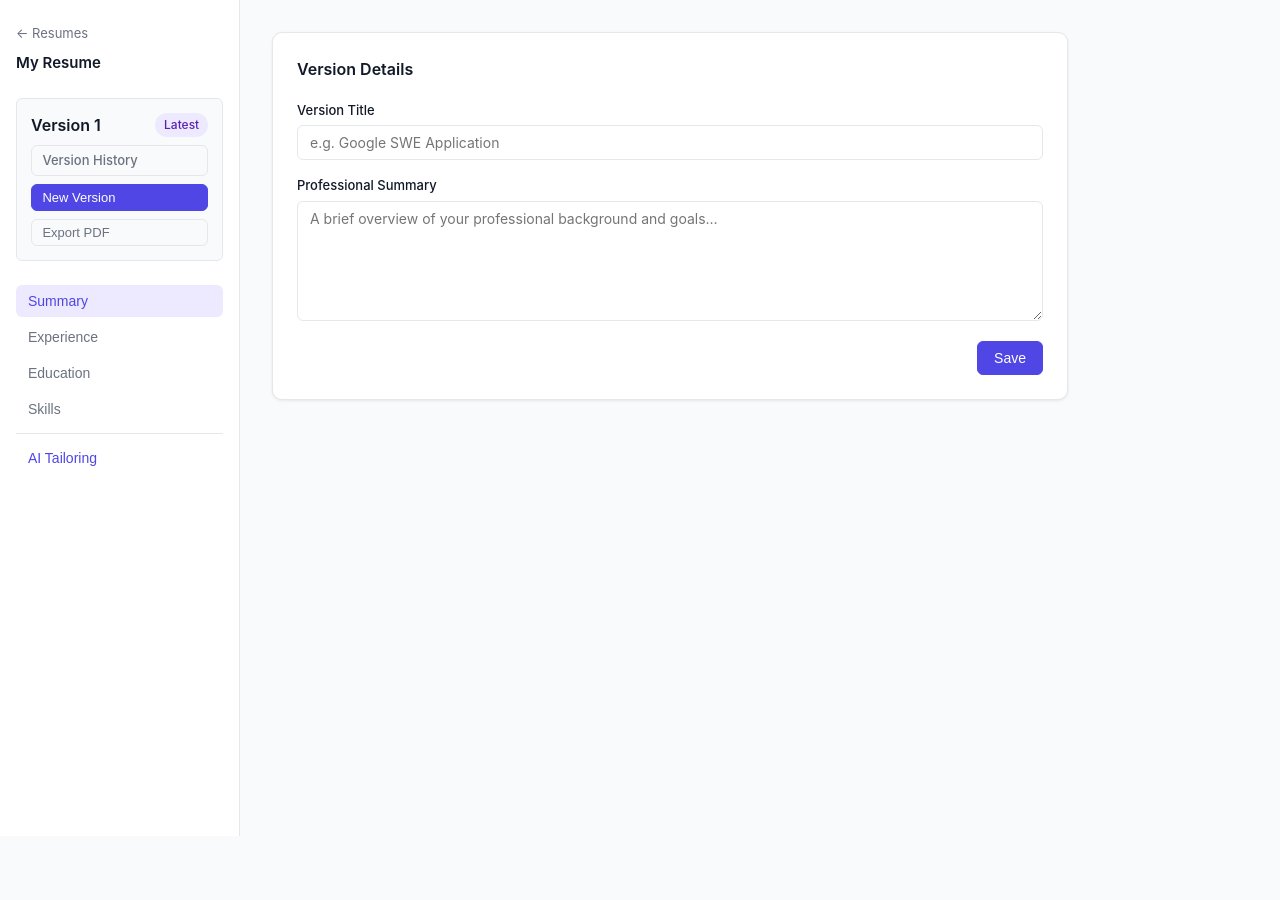
Test: ResumeEditorView › shows API error message when analyze fails
Click the button with class "nav-item" showing "AI Tailoring" at point(120, 458), box [16, 442, 223, 474]
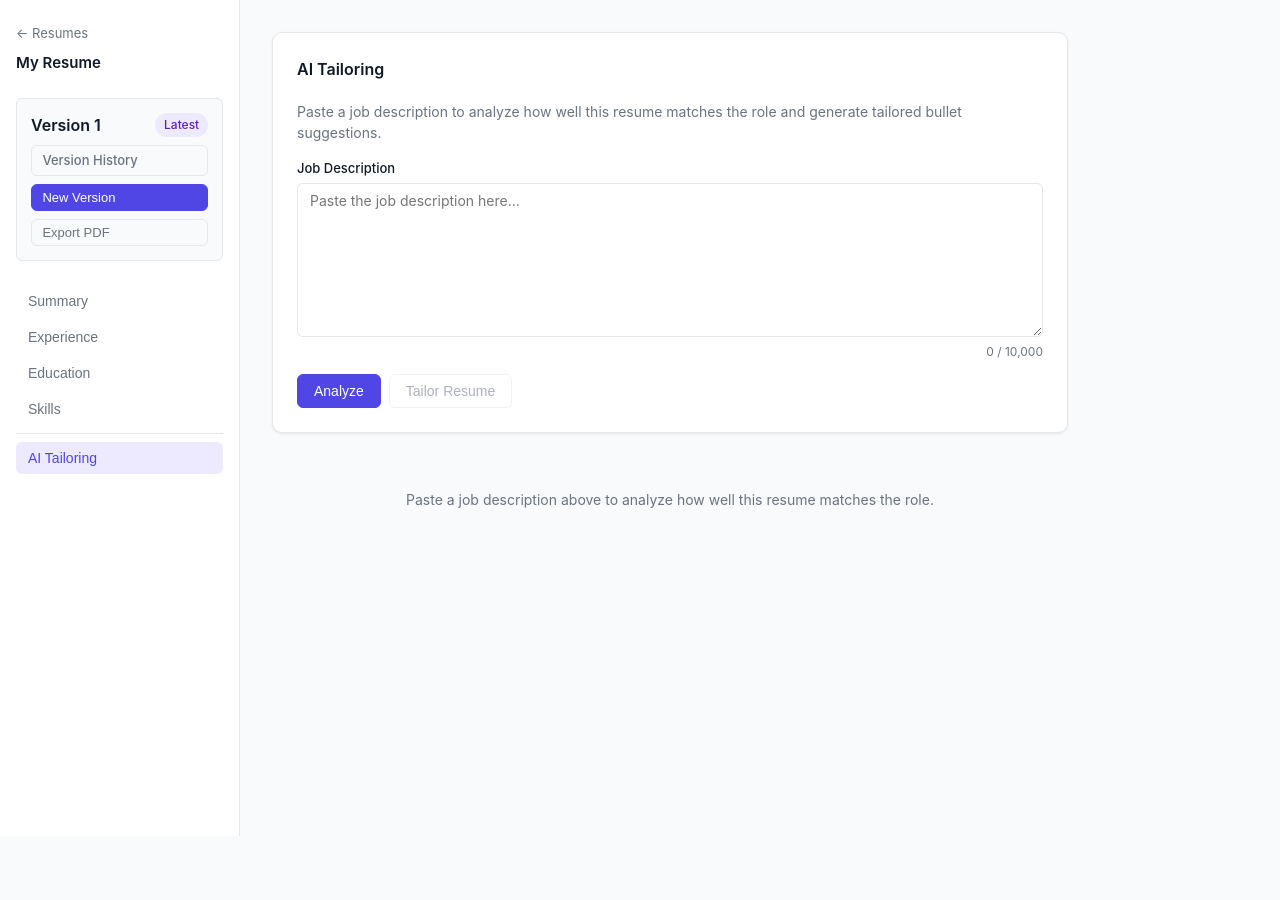
Type "Java Spring Boot backend engineer role." into the text box with id "job-description" at point(670, 260), box [297, 183, 1043, 337]
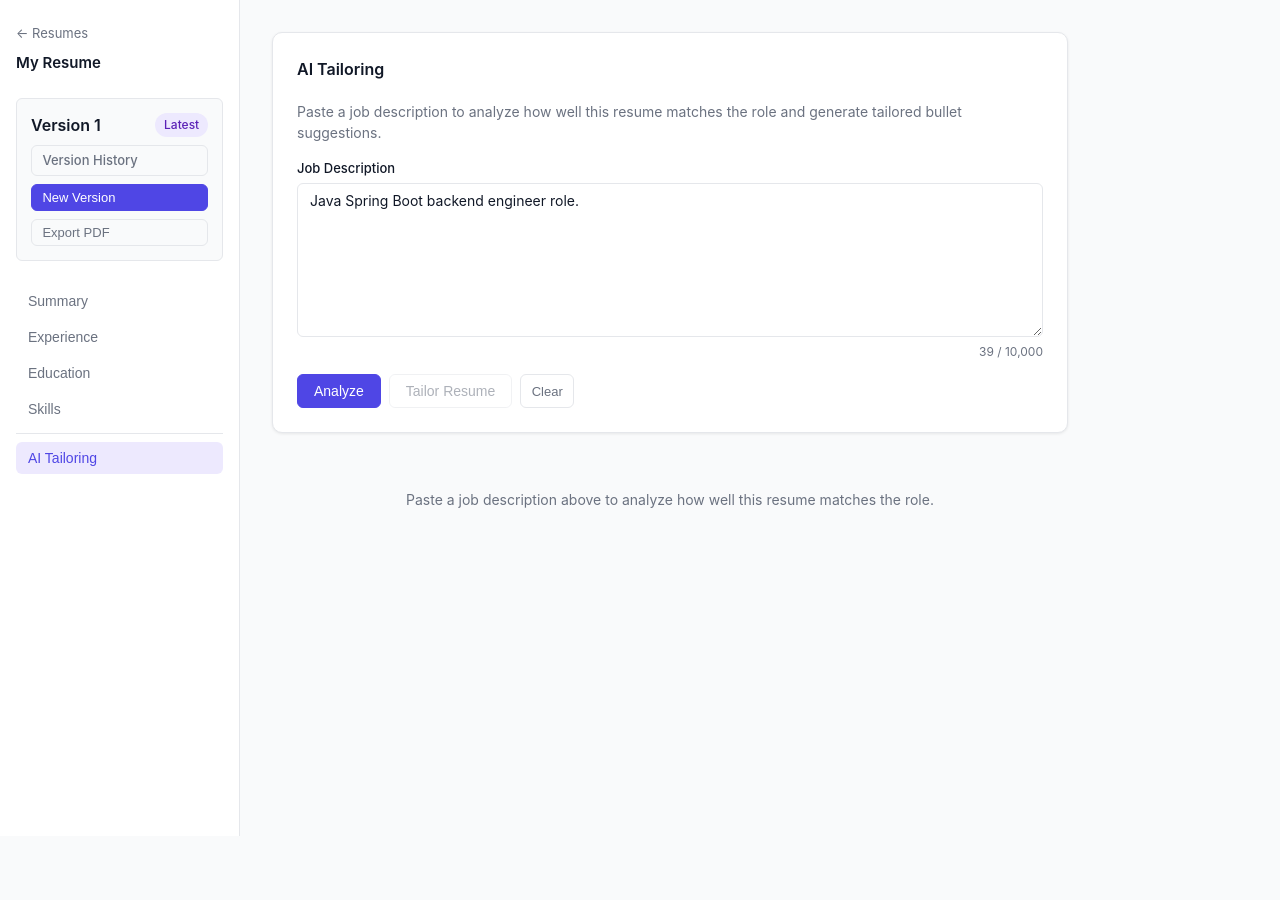
Click the button "Analyze" at point(339, 391), box [297, 374, 381, 408]
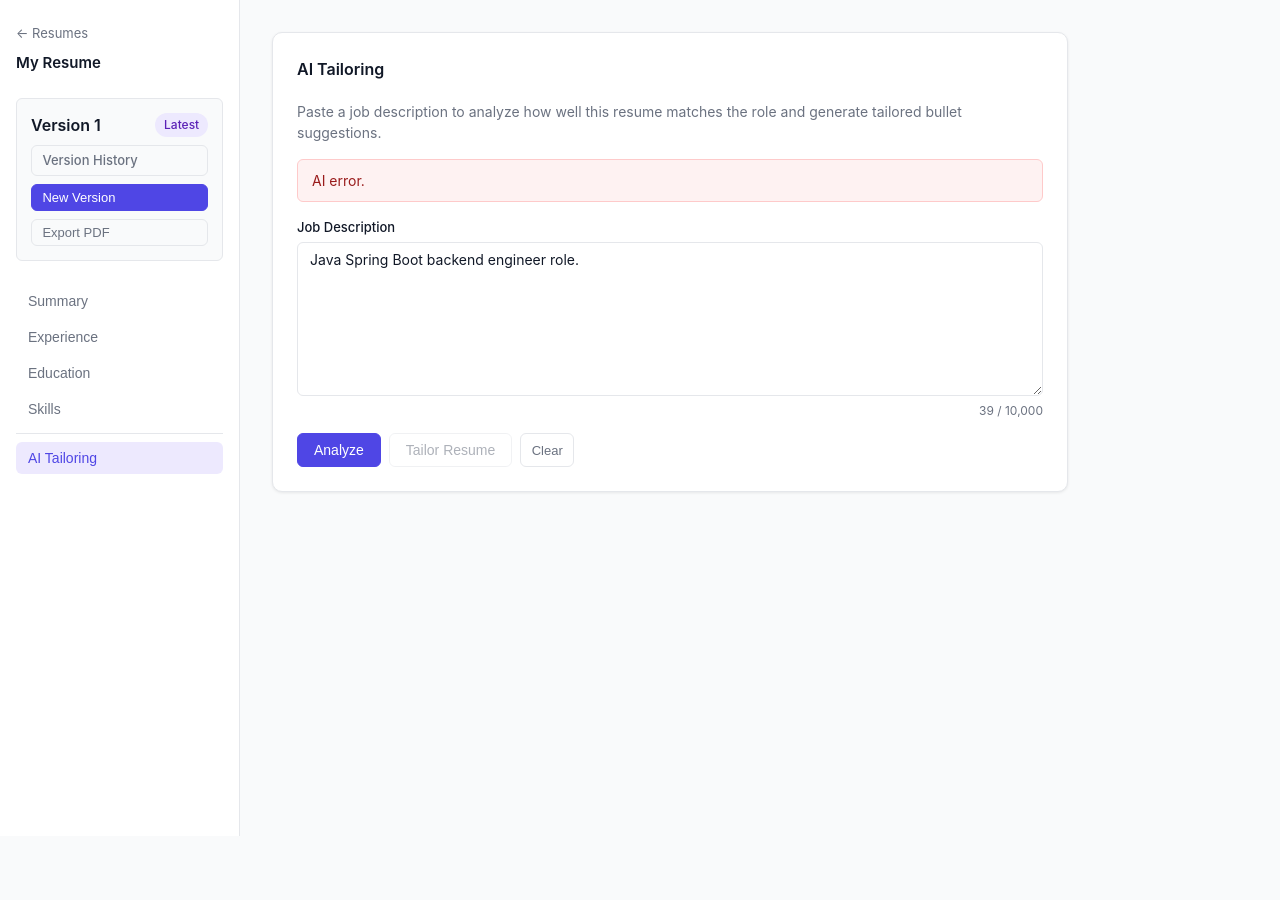
Expected: the text "AI error." is shown, [297, 159, 1043, 202]
